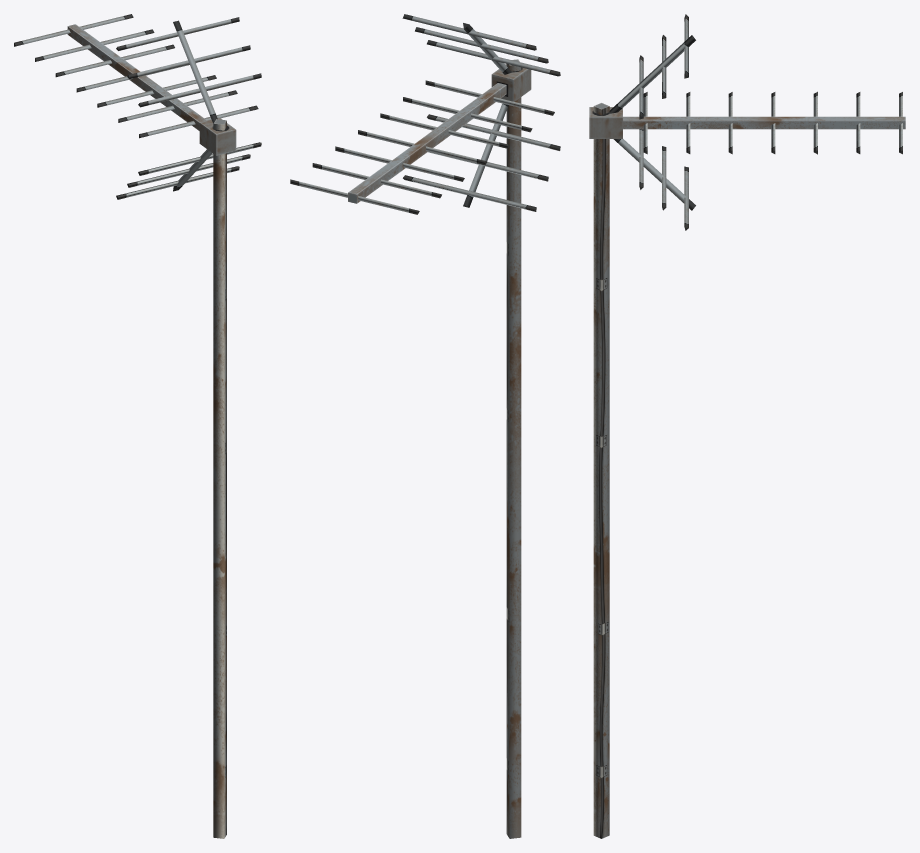
The model's file is antenna02.fbx.
The picture shows the model from 3 angles, left to right: view 1: azimuth 30°, elevation 25°; view 2: azimuth 150°, elevation 25°; view 3: azimuth 270°, elevation 25°; orthographic projection. The views are drawn at different scales.
Visible parts, largest first — view 1: antenna02; view 2: antenna02; view 3: antenna02.
Boxes of the visible parts, x1,y1,x2,y2 form: antenna02: [14, 14, 261, 838]; antenna02: [290, 14, 560, 838]; antenna02: [589, 14, 905, 838].
Size of the model in its own units: 89.11 by 548 by 197.
